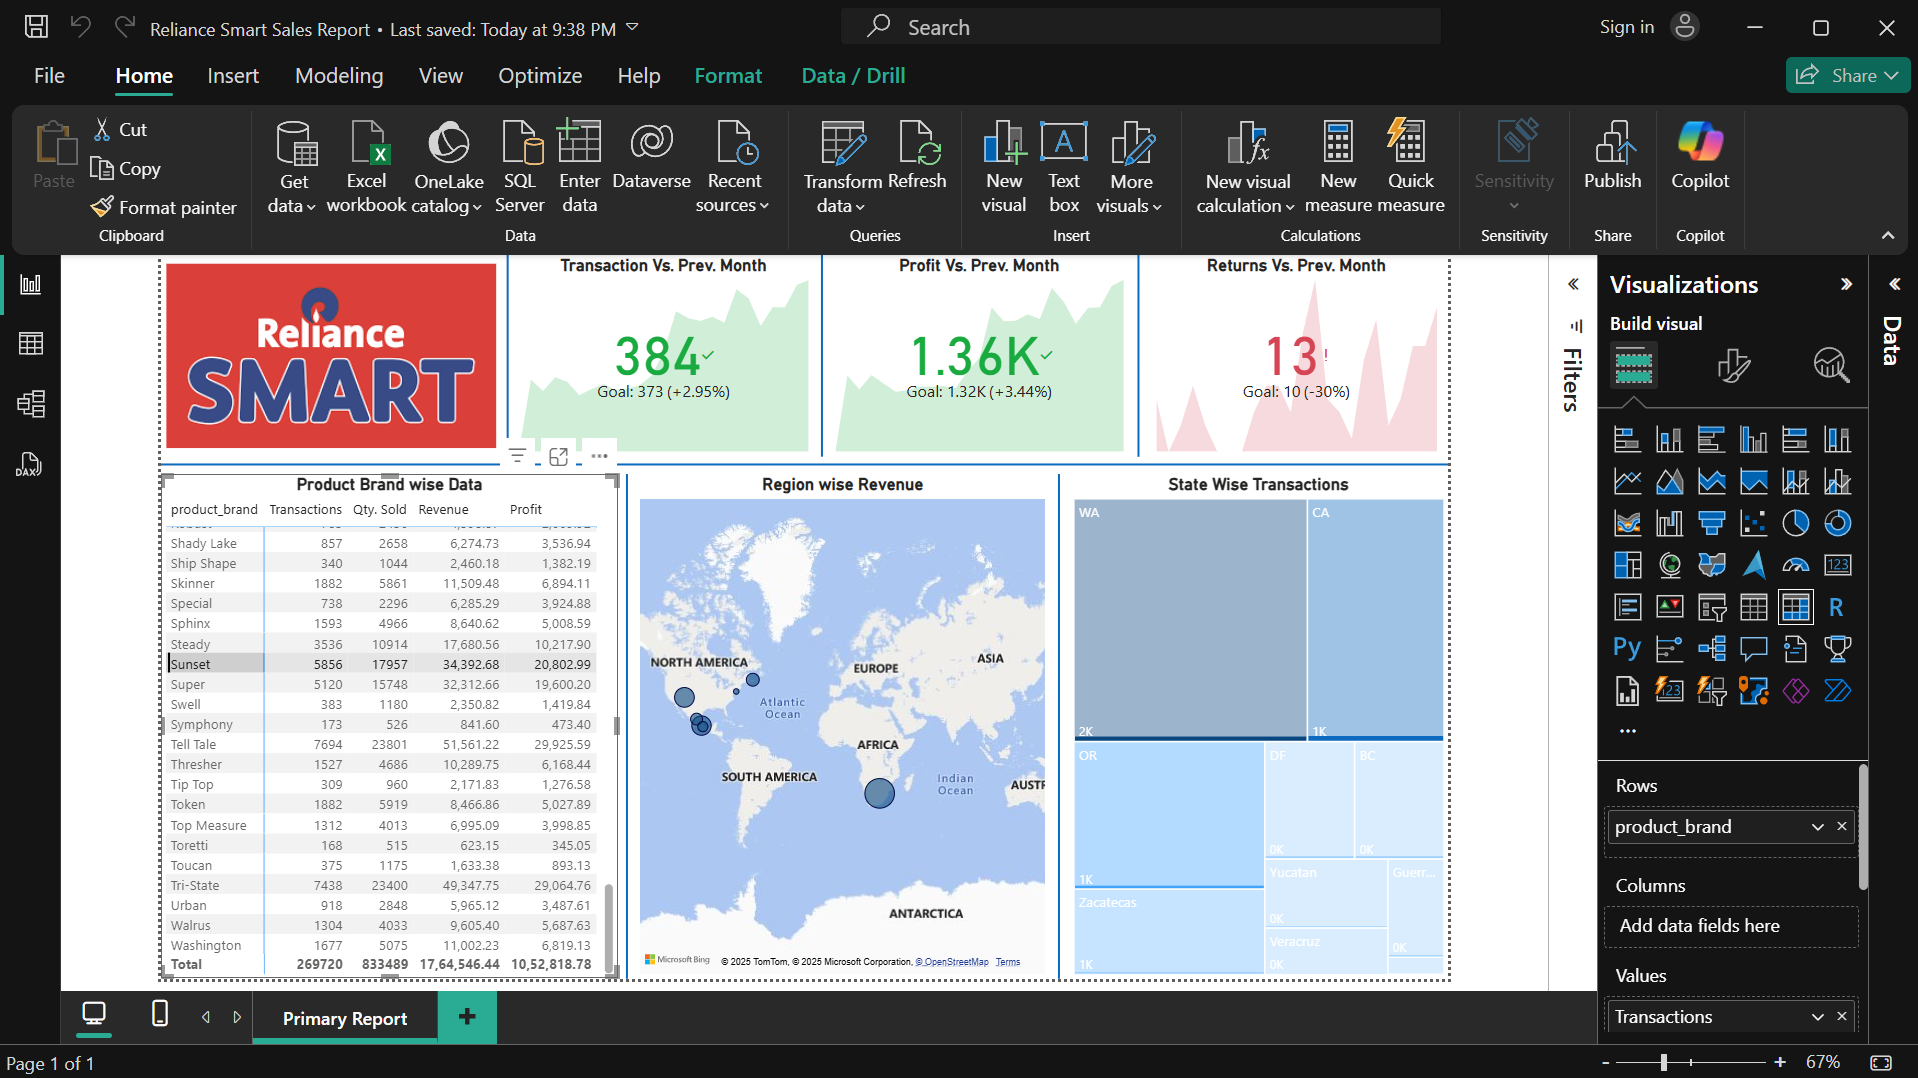

What the dashboard file says about the page in this screenshot:
{"tool":"powerbi","page":{"name":"Primary Report","canvas":[1280,720],"ordinal":0},"visuals":[{"type":"image","box":[0,0,338.4,200.6],"z":0},{"type":"shape","box":[0,200.6,1280,16.8],"z":1000},{"type":"pivotTable","title":"Product Brand wise Data","fields":{"Rows":["d_Products.product_brand"],"Values":["Measure Table.M_Total_Transactions","Measure Table.M_Quantity_Sold","Measure Table.M_Total_Revenue","Measure Table.M_Total_Profit"]},"box":[0,217.4,454.7,502.2],"z":2000},{"type":"shape","box":[454.7,217.4,16.8,502.2],"z":3000},{"type":"map","title":"Region wise Revenue","fields":{"Category":["d_Regions.sales_region"],"Size":["Measure Table.M_Total_Revenue"]},"box":[471.6,217.4,413.4,502.2],"z":4000},{"type":"shape","box":[885,217.4,16.8,502.2],"z":5000},{"type":"treemap","title":"State Wise Transactions","fields":{"Group":["d_Stores.store_state"],"Values":["Measure Table.M_Total_Transactions"]},"box":[901.8,217.4,378.2,502.2],"z":6000},{"type":"shape","box":[338.4,0,12.2,200.6],"z":7000},{"type":"kpi","title":"Transaction Vs. Prev. Month","fields":{"Goal":["Measure Table.M_Previous_Month_Trasactions"],"Indicator":["Measure Table.M_Total_Transactions"],"TrendLine":["d_Calendar.Start of Month"]},"box":[350.6,0,298.6,200.6],"z":8000},{"type":"shape","box":[649.2,0,16.8,200.6],"z":9000},{"type":"kpi","title":"Profit Vs. Prev. Month","fields":{"Goal":["Measure Table.M_Previous_Month_Profit"],"TrendLine":["d_Calendar.Start of Month"],"Indicator":["Measure Table.M_Total_Profit"]},"box":[666,0,297,200.6],"z":10000},{"type":"shape","box":[963.1,0,16.8,200.6],"z":11000},{"type":"kpi","title":"Returns Vs. Prev. Month","fields":{"Goal":["Measure Table.M_Previous_Month_Returns"],"TrendLine":["d_Calendar.Start of Month"],"Indicator":["Measure Table.M_Total_Returns"]},"box":[984.5,0,289.4,200.6],"z":12000}]}

Visuals, with their boxes on the page's 1280x720 design canvas (x1, y1, x2, y2). These are canvas units, not pixel positions in the 1918x1078 screenshot, which may show the page scaled, cropped or inside an application window:
image: select_region(0, 0, 338, 201)
shape: select_region(0, 201, 1280, 217)
"Product Brand wise Data" pivotTable: select_region(0, 217, 455, 720)
shape: select_region(455, 217, 472, 720)
"Region wise Revenue" map: select_region(472, 217, 885, 720)
shape: select_region(885, 217, 902, 720)
"State Wise Transactions" treemap: select_region(902, 217, 1280, 720)
shape: select_region(338, 0, 351, 201)
"Transaction Vs. Prev. Month" kpi: select_region(351, 0, 649, 201)
shape: select_region(649, 0, 666, 201)
"Profit Vs. Prev. Month" kpi: select_region(666, 0, 963, 201)
shape: select_region(963, 0, 980, 201)
"Returns Vs. Prev. Month" kpi: select_region(984, 0, 1274, 201)
